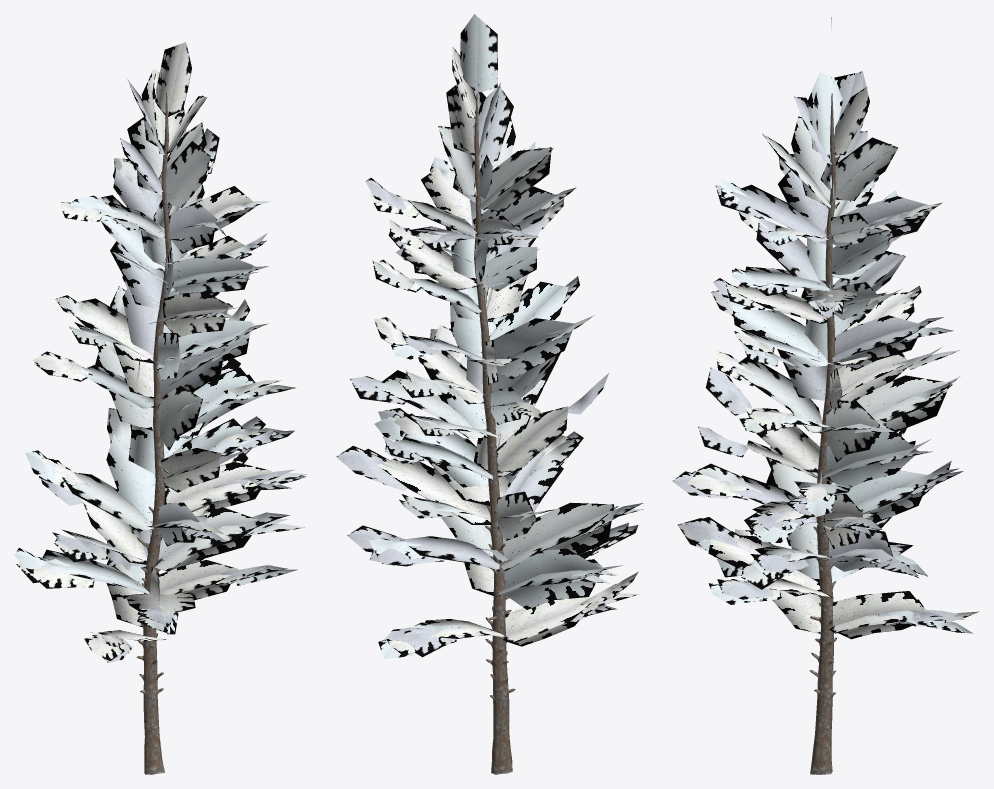
Rendered from Spruce_Norway_Desktop_1_Forest_c60afa.glb.
3 renders of one model, left to right at view 1: azimuth 30°, elevation 25°; view 2: azimuth 150°, elevation 25°; view 3: azimuth 270°, elevation 25°, orthographic. The views are drawn at different scales.
Bounding box in the file's own units: 5.28 × 14.3 × 5.19.
2 materials, 2 textured.
